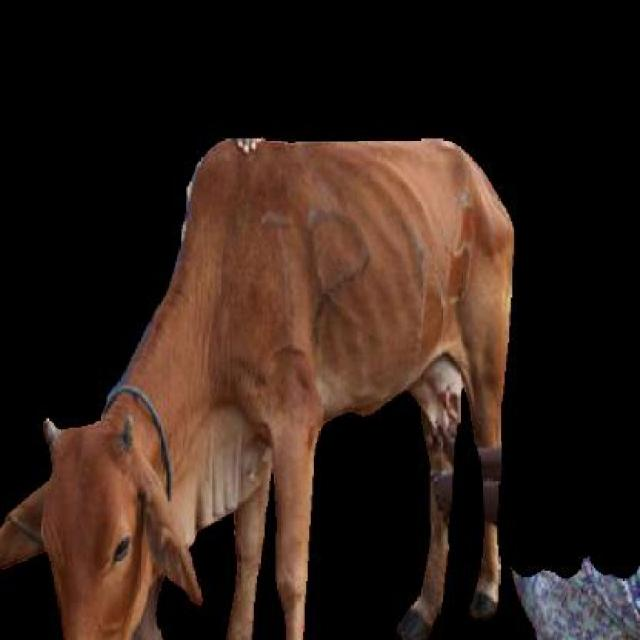Cow: (0, 138, 517, 638)
